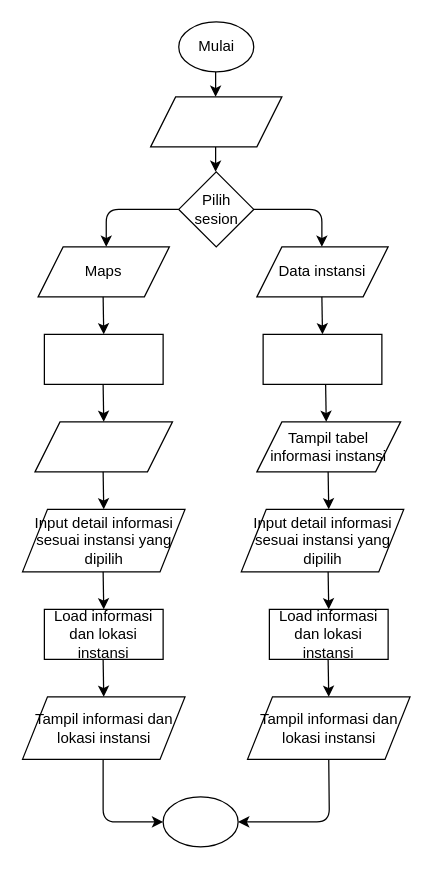
Some shapes in this 431 by 869 pixel diagram are drawn without their labels. The box of each missing label's shape, as (x1, y1, x2, y2) in pixels:
Load informasi instansi ke tabel: (262, 333, 382, 384)
Load titik lokasi semua instansi: (43, 333, 163, 384)
Selesai: (162, 796, 238, 847)
Tampil peta lokasi semua instansi: (34, 421, 172, 472)
Tampl halaman beranda: (149, 96, 282, 147)
